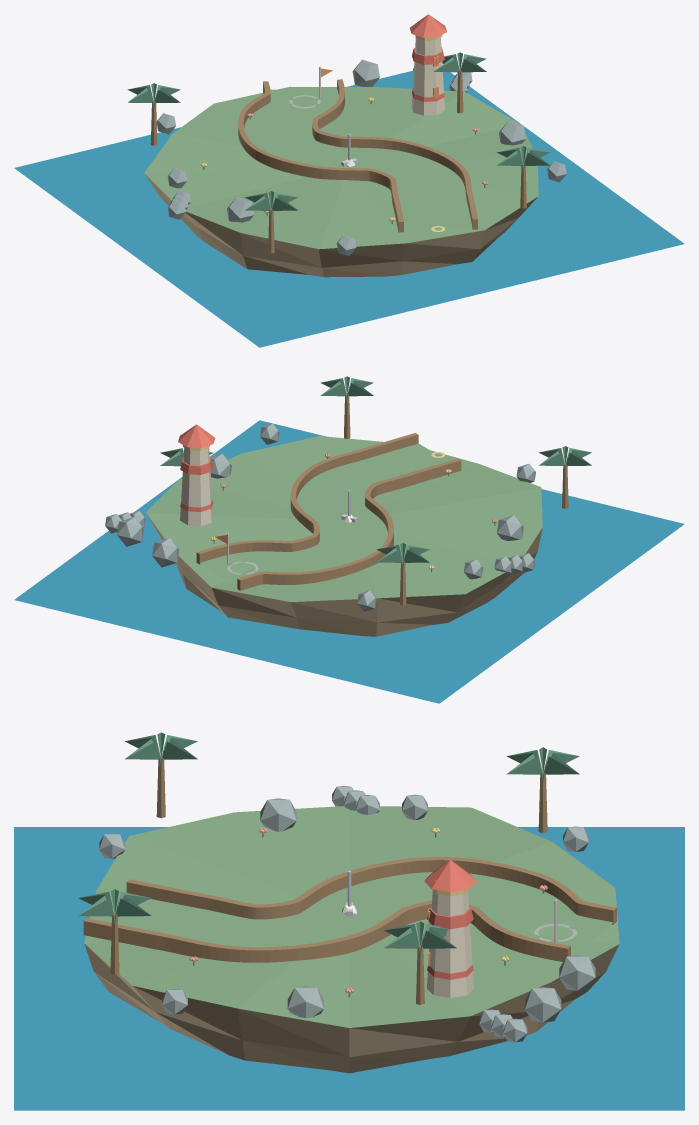
The model's file is course-12.glb.
3 renders of one model, top to bottom at view 1: azimuth 30°, elevation 25°; view 2: azimuth 150°, elevation 25°; view 3: azimuth 270°, elevation 25°, orthographic. The views are drawn at different scales.
Parts seen in each view (by area): view 1: water-plane.011, island-turf-edge.011, surface-grass, island-rock-plinth.011, rail-left, rail-right, lighthouse-tower, faceted-rock.095, lighthouse-roof, faceted-rock.088, faceted-rock.091; view 2: water-plane.011, island-turf-edge.011, surface-grass, island-rock-plinth.011, rail-left, rail-right, lighthouse-tower, faceted-rock.092, faceted-rock.095, lighthouse-roof, faceted-rock.088; view 3: water-plane.011, island-turf-edge.011, island-rock-plinth.011, surface-grass, rail-right, rail-left, lighthouse-tower, faceted-rock.095, faceted-rock.092, lighthouse-roof, faceted-rock.088, faceted-rock.091 (+1 smaller).
Boxes of the visible parts, x1,y1,x2,y2 form: water-plane.011: (14, 70, 684, 347); island-turf-edge.011: (144, 86, 538, 249); surface-grass: (244, 88, 472, 230); island-rock-plinth.011: (144, 173, 537, 277); rail-left: (238, 81, 403, 232); rail-right: (312, 79, 477, 229); lighthouse-tower: (411, 37, 444, 115); faceted-rock.095: (352, 59, 379, 86); lighthouse-roof: (410, 14, 446, 37); faceted-rock.088: (227, 197, 254, 222); faceted-rock.091: (499, 121, 525, 145); water-plane.011: (14, 420, 684, 703); island-turf-edge.011: (146, 436, 542, 601); surface-grass: (200, 443, 447, 586); island-rock-plinth.011: (147, 514, 542, 636); rail-left: (237, 458, 461, 590); rail-right: (196, 433, 418, 564); lighthouse-tower: (180, 447, 213, 526); faceted-rock.092: (117, 517, 144, 546); faceted-rock.095: (152, 537, 179, 567); lighthouse-roof: (178, 424, 215, 447); faceted-rock.088: (496, 515, 523, 540); water-plane.011: (14, 827, 684, 1110); island-turf-edge.011: (84, 806, 619, 1027); island-rock-plinth.011: (84, 944, 619, 1073); surface-grass: (98, 872, 612, 955); rail-right: (83, 900, 570, 962); rail-left: (126, 857, 616, 924); lighthouse-tower: (427, 890, 473, 997); faceted-rock.095: (559, 955, 595, 990); faceted-rock.092: (525, 987, 561, 1022); lighthouse-roof: (424, 859, 476, 892); faceted-rock.088: (260, 798, 296, 831); faceted-rock.091: (287, 986, 323, 1017).
Bounding box in the file's own units: 12.3 × 3.87 × 12.3.
